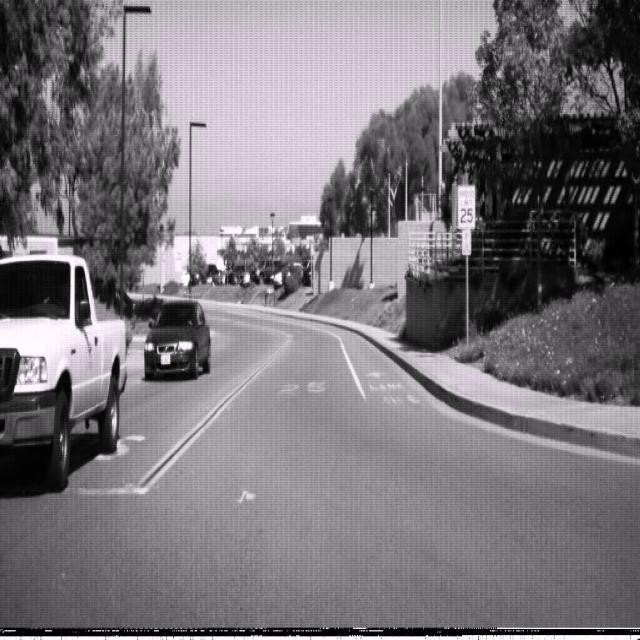speedLimit25: (456, 184, 476, 229)
